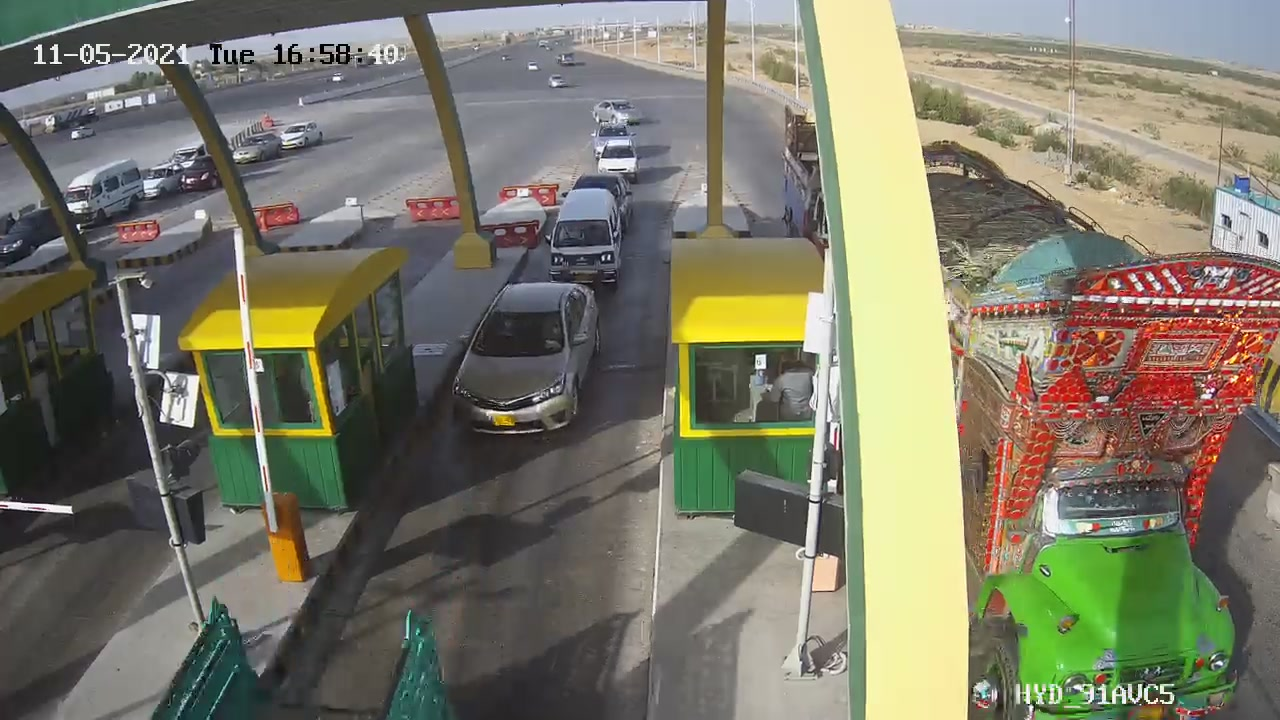F1: (432, 266, 618, 451), (532, 176, 636, 305)
